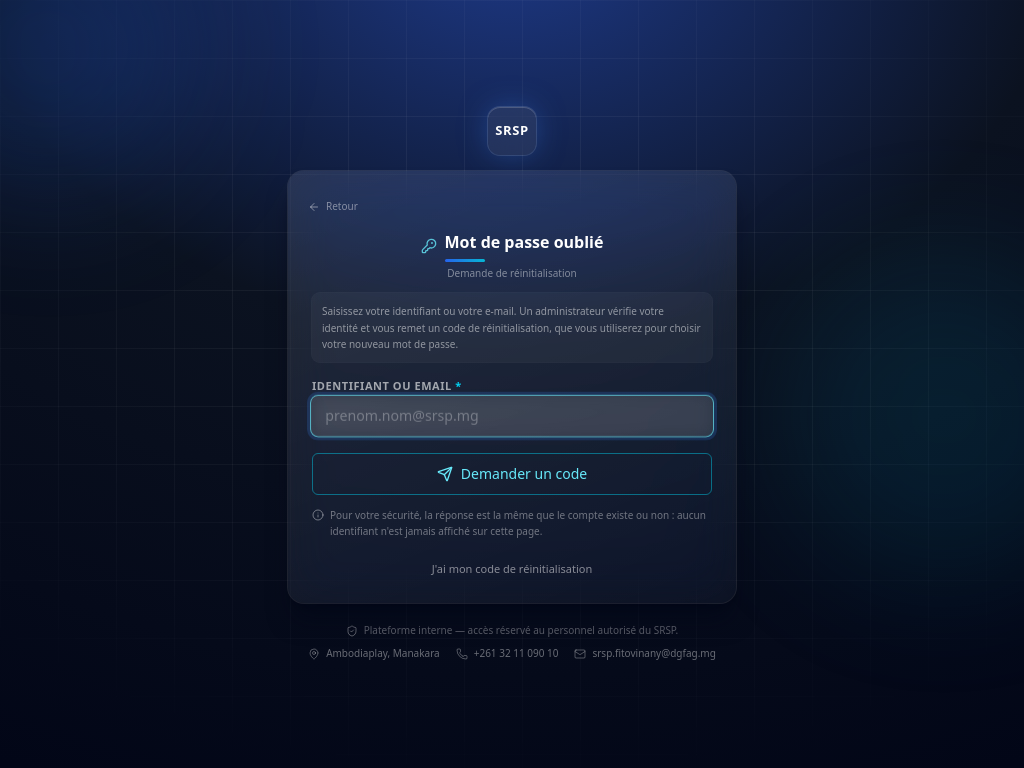
Test: Mot de passe oublié — dépôt de la demande › n’envoie rien tant que l’identifiant est vide
Click the button "Demander un code".
click(512, 474)  # box [312, 453, 712, 495]
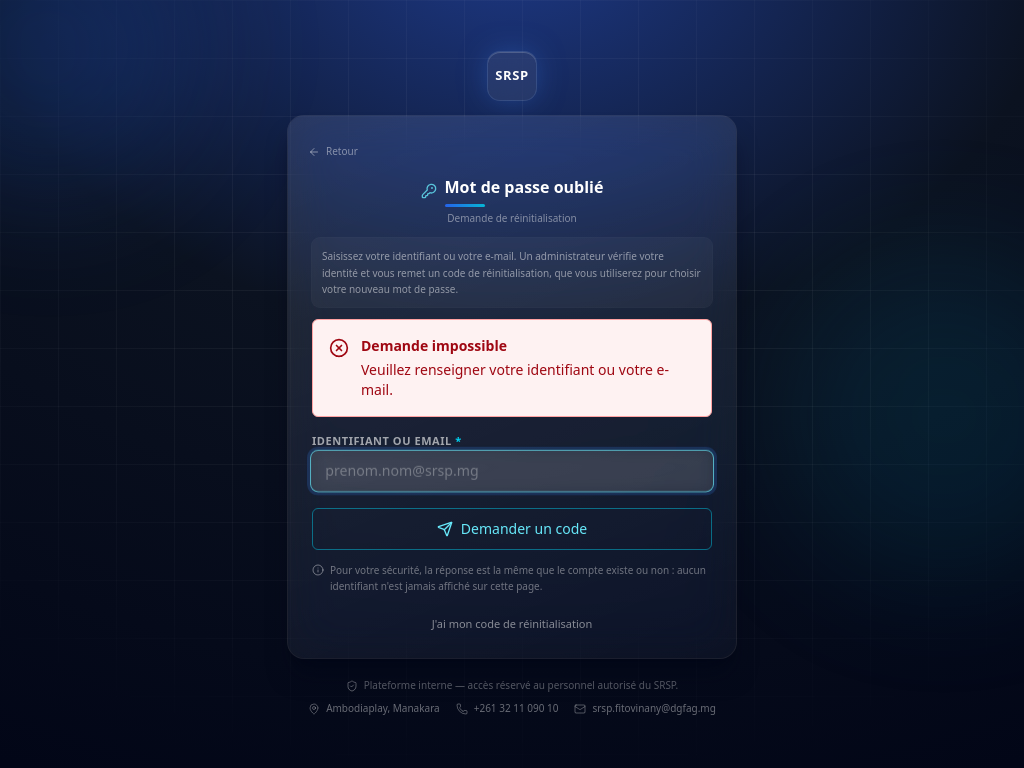
Result: the text "Veuillez renseigner votre identifiant ou votre e-mail." is shown at [361, 360, 695, 400]
